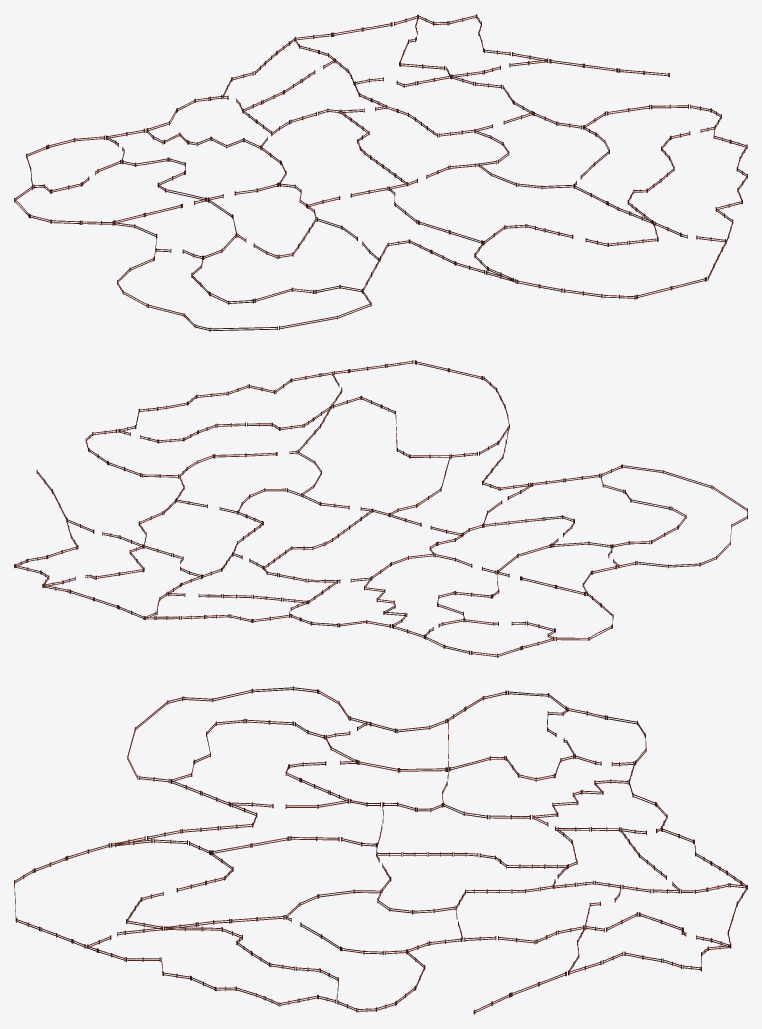
File: tuong go map.fbx
3 renders of one model, top to bottom at view 1: azimuth 30°, elevation 25°; view 2: azimuth 150°, elevation 25°; view 3: azimuth 270°, elevation 25°, orthographic. The views are drawn at different scales.
Size of the model in its own units: 85.33 by 0.5129 by 81.69.
1 material, 1 textured.
